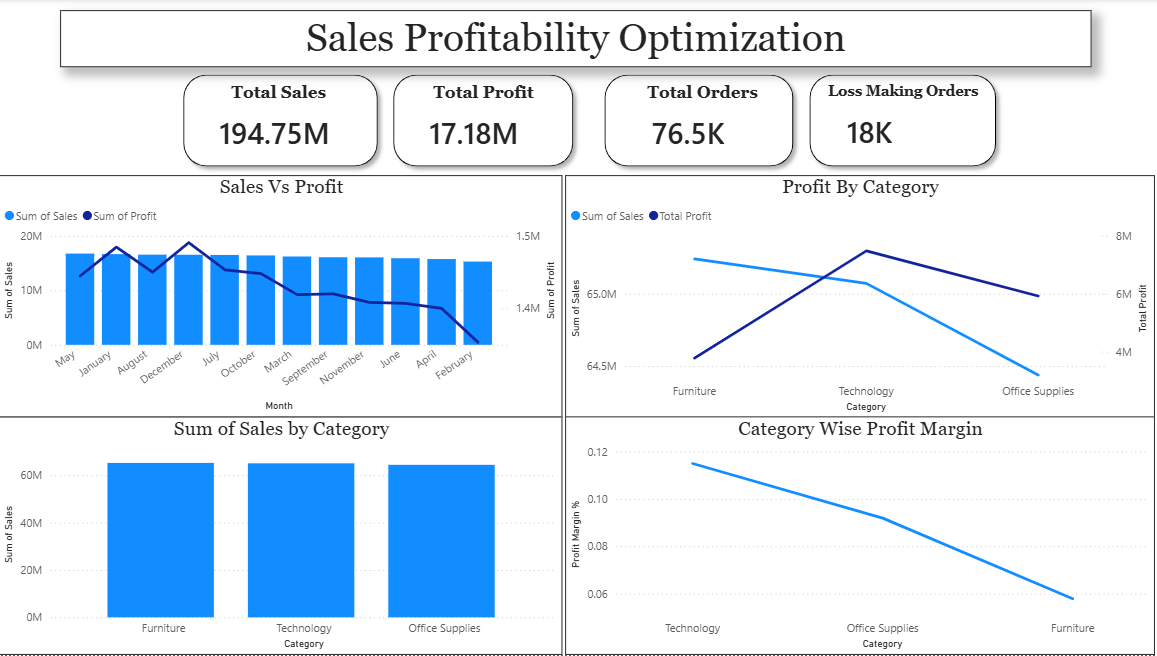

This screenshot's page, from the dashboard's own definition file:
{"tool":"powerbi","page":{"name":"Executive Dashboard","canvas":[1280,720],"ordinal":0},"visuals":[{"type":"shape","box":[193.2,74.6,231.1,118.6],"z":0},{"type":"shape","box":[424.3,74.6,215.2,118.6],"z":1000},{"type":"shape","box":[655.4,74.6,225,118.6],"z":2000},{"type":"shape","box":[880.4,74.6,222.6,118.6],"z":3000},{"type":"cardVisual","title":"Total Sales","fields":{"Data":["Sum(Sales_Profitability_Optimizatio.Sales)"]},"box":[212.8,91.7,192,85.6],"z":4000},{"type":"cardVisual","title":"Total Profit","fields":{"Data":["Sum(Sales_Profitability_Optimizatio.Profit)"]},"box":[443.9,91.7,177.3,85.6],"z":5000},{"type":"cardVisual","title":"Total Orders","fields":{"Data":["CountNonNull(Sales_Profitability_Optimizatio.Order_ID)"]},"box":[687.2,91.7,170,85.6],"z":6000},{"type":"cardVisual","title":"Loss Making Orders","fields":{"Data":["Sales_Profitability_Optimizatio.loss making"]},"box":[901.2,91.7,182.2,85.6],"z":7000},{"type":"textbox","box":[67.3,12.2,1132.3,62.4],"z":8000},{"type":"columnChart","fields":{"Category":["Sales_Profitability_Optimizatio.Category"],"Y":["Sum(Sales_Profitability_Optimizatio.Sales)"]},"box":[0,458.6,618.8,261.7],"z":9000},{"type":"lineClusteredColumnComboChart","title":"Sales Vs Profit","fields":{"Category":["Sales_Profitability_Optimizatio.Month"],"Y":["Sum(Sales_Profitability_Optimizatio.Sales)"],"Y2":["Sum(Sales_Profitability_Optimizatio.Profit)"]},"box":[0,193.2,618.8,265.4],"z":10000},{"type":"lineChart","title":"Profit By Category","fields":{"Category":["Sales_Profitability_Optimizatio.Category"],"Y":["Sum(Sales_Profitability_Optimizatio.Sales)"],"Y2":["Sales_Profitability_Optimizatio.Total Profit"]},"box":[621.2,193.2,646.9,266.6],"z":11000},{"type":"lineChart","title":"Category Wise Profit Margin","fields":{"Y":["Sales_Profitability_Optimizatio.Profit Margin %"],"Category":["Sales_Profitability_Optimizatio.Category"]},"box":[621.2,458.6,646.9,261.7],"z":12000}]}

Visuals, with their boxes in screenshot pixels (x1, y1, x2, y2), scaled from the page's 1280x720 canvas onto the 1157x656 screenshot:
shape: left=175, top=68, right=384, bottom=176
shape: left=384, top=68, right=578, bottom=176
shape: left=592, top=68, right=796, bottom=176
shape: left=796, top=68, right=997, bottom=176
"Total Sales" cardVisual: left=192, top=84, right=366, bottom=162
"Total Profit" cardVisual: left=401, top=84, right=562, bottom=162
"Total Orders" cardVisual: left=621, top=84, right=775, bottom=162
"Loss Making Orders" cardVisual: left=815, top=84, right=979, bottom=162
textbox: left=61, top=11, right=1084, bottom=68
columnChart - Sales_Profitability_Optimizatio.Category x Sum(Sales_Profitability_Optimizatio.Sales): left=0, top=418, right=559, bottom=655
"Sales Vs Profit" lineClusteredColumnComboChart: left=0, top=176, right=559, bottom=418
"Profit By Category" lineChart: left=562, top=176, right=1146, bottom=419
"Category Wise Profit Margin" lineChart: left=562, top=418, right=1146, bottom=655
